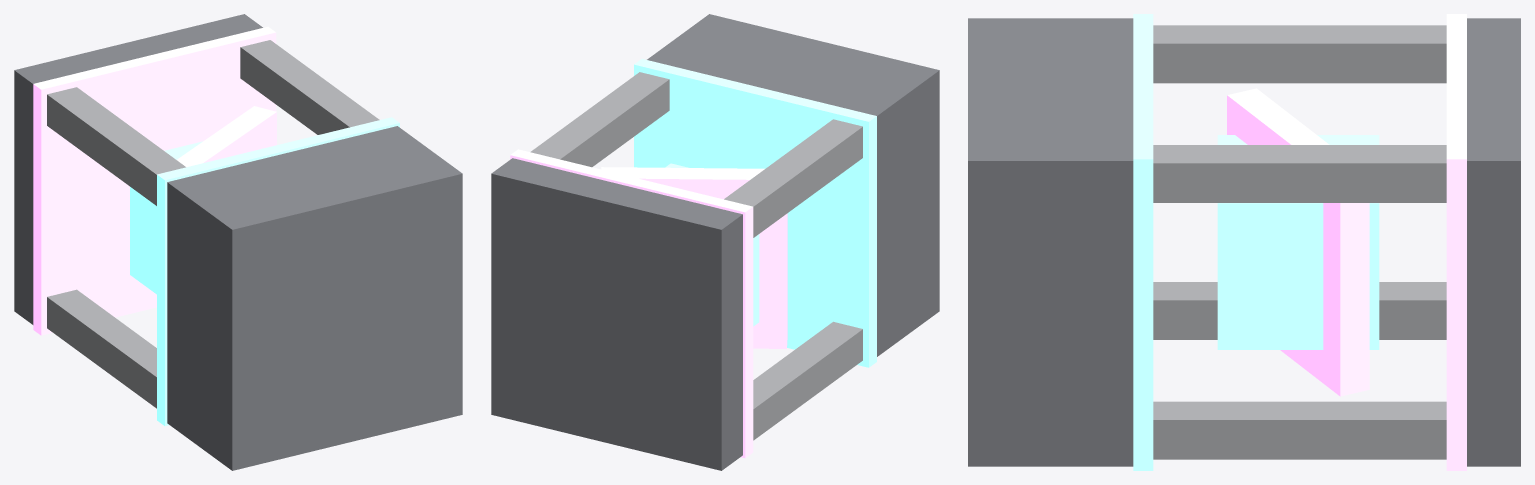
The model's file is hyperspace_core.glb.
The picture shows the model from 3 angles, left to right: view 1: azimuth 30°, elevation 25°; view 2: azimuth 150°, elevation 25°; view 3: azimuth 270°, elevation 25°; orthographic projection. The views are drawn at different scales.
Parts seen in each view (by area): view 1: Base, TrimT, Top, P3, P1, P4, TrimB, Ring, Core; view 2: Top, Base, TrimB, P3, Ring, P1, P4, TrimT, Core; view 3: Base, Top, Core, P2, P3, P4, Ring, TrimB, TrimT, P1.
Part boxes in pixels (<box>): Base: <box>167,126,462,470</box>; TrimT: <box>33,26,276,335</box>; Top: <box>14,14,262,324</box>; P3: <box>47,87,185,205</box>; P1: <box>47,289,156,408</box>; P4: <box>240,40,379,134</box>; TrimB: <box>157,117,399,425</box>; Ring: <box>177,106,276,167</box>; Core: <box>130,141,262,294</box>; Top: <box>491,158,742,470</box>; Base: <box>647,14,939,356</box>; TrimB: <box>634,59,876,367</box>; P3: <box>724,119,862,237</box>; Ring: <box>601,167,787,348</box>; P1: <box>753,321,862,440</box>; P4: <box>530,72,669,167</box>; TrimT: <box>510,149,753,458</box>; Core: <box>665,163,759,326</box>; Base: <box>968,18,1133,466</box>; Top: <box>1467,18,1520,466</box>; Core: <box>1217,135,1379,349</box>; P2: <box>1153,401,1446,459</box>; P3: <box>1153,25,1446,83</box>; P4: <box>1153,145,1446,202</box>; Ring: <box>1227,88,1369,396</box>; TrimB: <box>1133,14,1153,470</box>; TrimT: <box>1446,14,1466,470</box>; P1: <box>1153,282,1446,339</box>.
Bounding box in the file's own units: 1.02 × 1.02 × 1.64.
